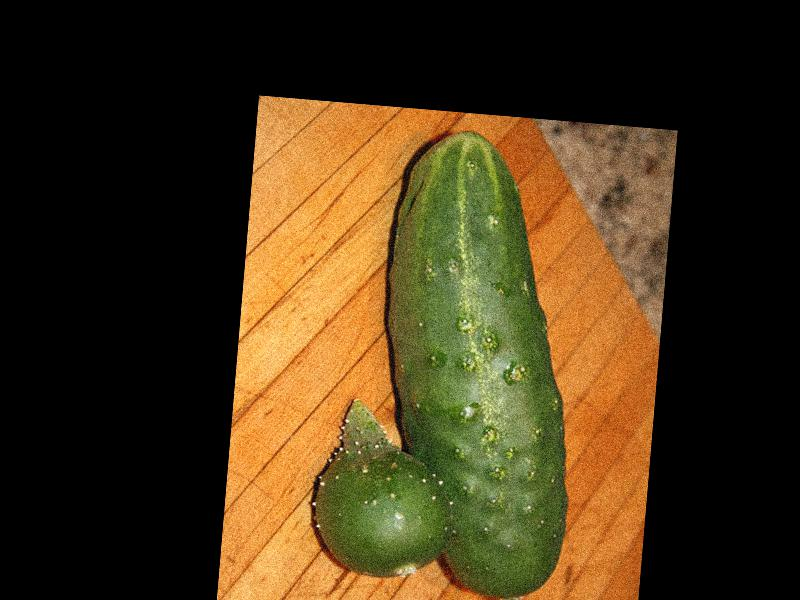Cucumber: (361, 124, 597, 600)
